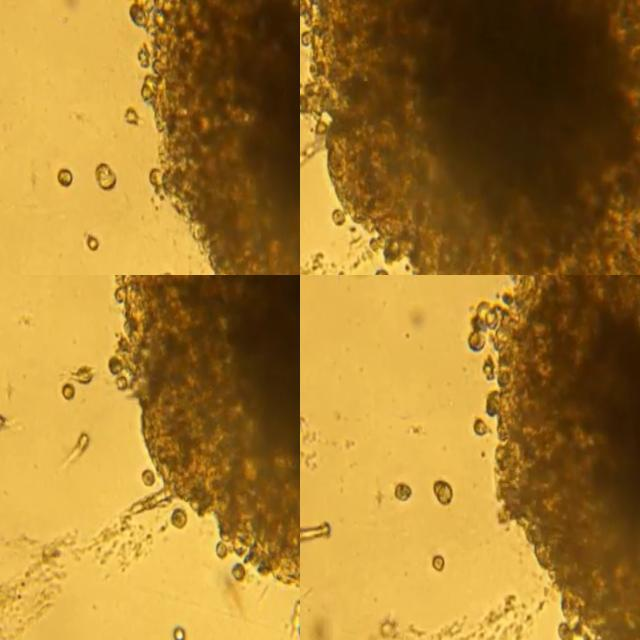cell: (57, 432, 86, 470), (281, 598, 298, 636), (425, 479, 448, 504), (90, 162, 110, 188), (300, 520, 325, 540), (65, 365, 90, 383), (164, 506, 183, 527), (387, 481, 407, 500), (117, 106, 138, 123), (466, 418, 484, 437), (55, 383, 73, 401), (52, 167, 68, 185), (222, 563, 237, 580), (133, 470, 148, 485), (208, 539, 220, 557), (80, 232, 92, 249), (290, 622, 300, 640), (367, 265, 384, 275), (164, 627, 176, 640), (427, 555, 438, 568)
tumor_mass: (300, 0, 640, 275), (464, 275, 640, 640), (105, 275, 300, 588)
